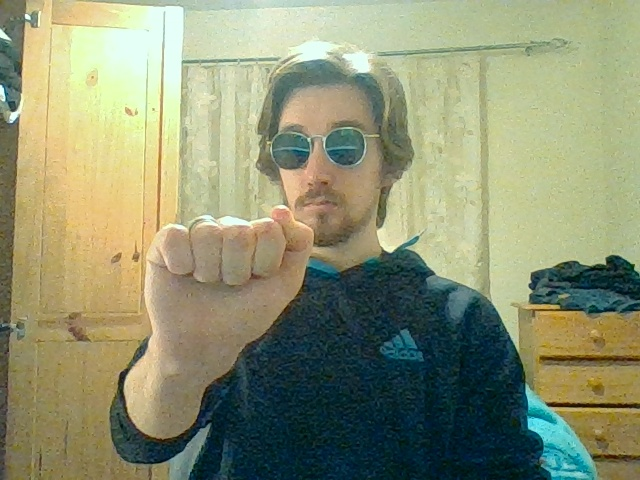your: (143, 205, 314, 335)
